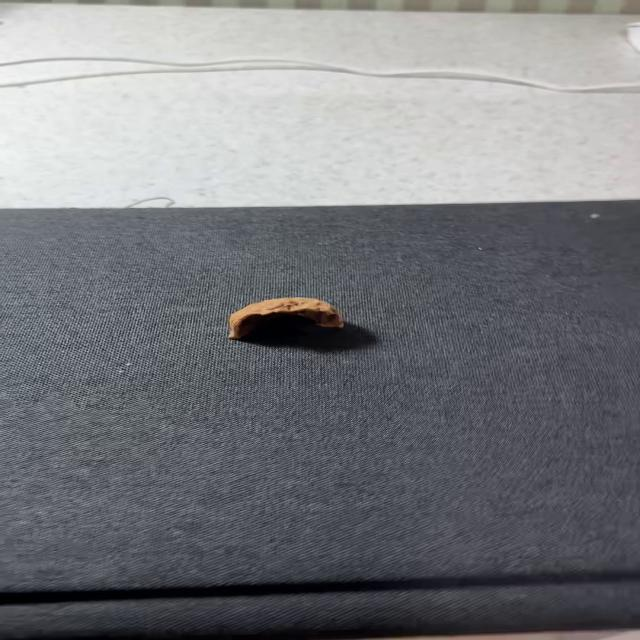nuts-bad0.25: (228, 297, 344, 340)
